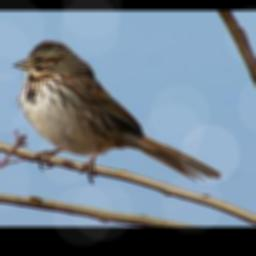Sparrow: (11, 39, 224, 183)
